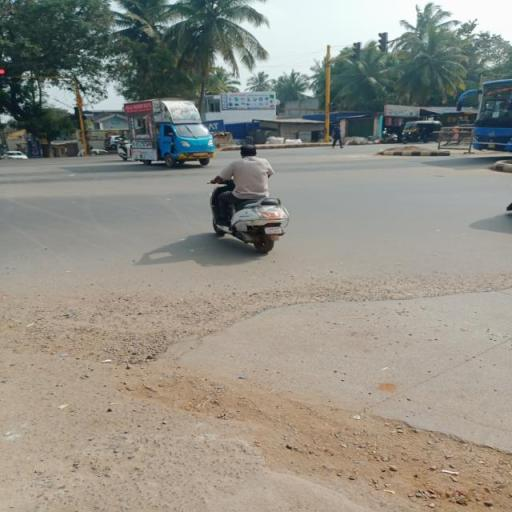bike: (200, 141, 294, 255)
withouthelmet: (240, 144, 258, 158)
